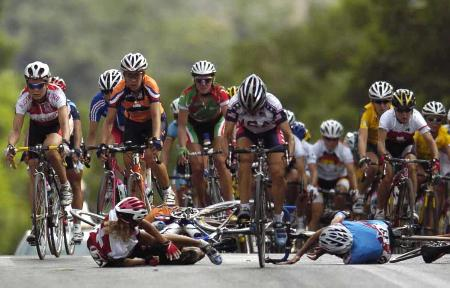10+: (5, 40, 450, 268)
down: (89, 198, 218, 263), (306, 211, 395, 268)
